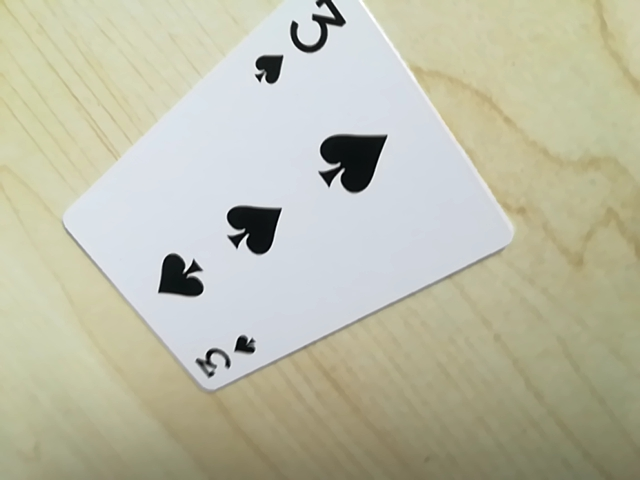ht 3: (248, 0, 348, 87), (188, 331, 261, 388)
